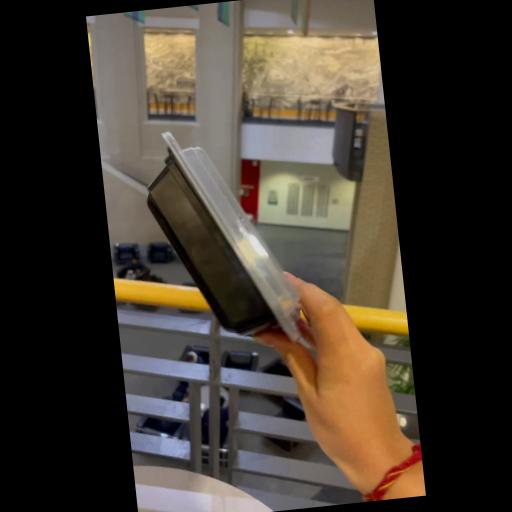rigid_plastic_container: (143, 124, 304, 347)
